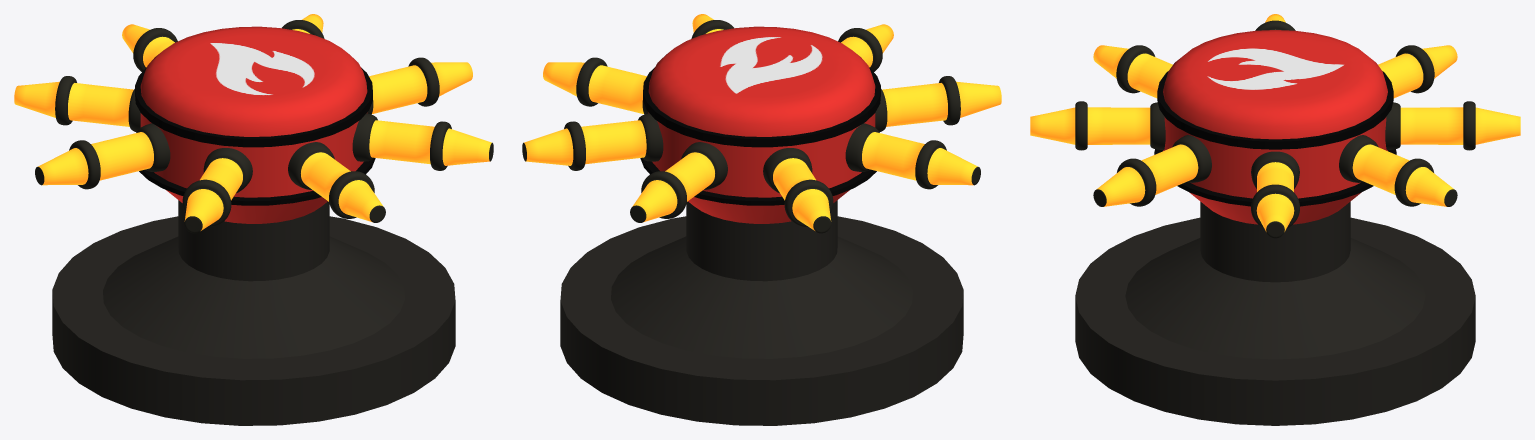
The model's file is flamethrower_aoe.fbx.
3 renders of one model, left to right at view 1: azimuth 30°, elevation 25°; view 2: azimuth 150°, elevation 25°; view 3: azimuth 270°, elevation 25°, orthographic.
Parts seen in each view (by area): view 1: Circle, barrel.003, barrel.001, barrel.002, barrel; view 2: Circle, barrel.003, barrel.001, barrel.002, barrel; view 3: Circle, barrel, barrel.002, barrel.001, barrel.003.
Part boxes in pixels (x1=…): Circle: x1=52, y1=26, x2=455, y2=425; barrel.003: x1=35, y1=57, x2=472, y2=189; barrel.001: x1=14, y1=76, x2=252, y2=233; barrel.002: x1=282, y1=14, x2=493, y2=170; barrel: x1=122, y1=24, x2=385, y2=222; Circle: x1=560, y1=26, x2=963, y2=425; barrel.003: x1=543, y1=57, x2=980, y2=189; barrel.001: x1=763, y1=76, x2=1001, y2=233; barrel.002: x1=522, y1=14, x2=733, y2=170; barrel: x1=630, y1=24, x2=893, y2=222; Circle: x1=1075, y1=30, x2=1475, y2=425; barrel: x1=1030, y1=101, x2=1520, y2=150; barrel.002: x1=1093, y1=135, x2=1457, y2=206; barrel.001: x1=1093, y1=45, x2=1457, y2=98; barrel.003: x1=1251, y1=14, x2=1299, y2=238.
Bounding box in the file's own units: 196 × 120 × 196.
Materials: 6 (1 with a texture image).
